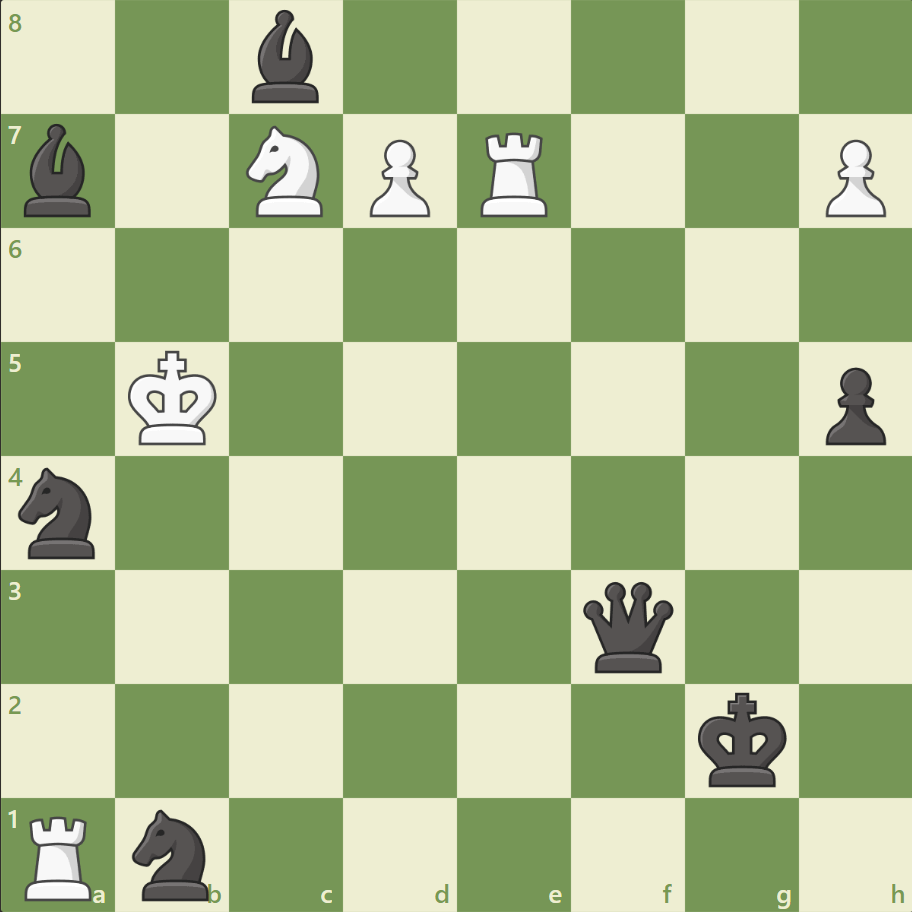K: (124, 344, 224, 452)
N: (238, 121, 335, 223)
P: (361, 132, 435, 223), (815, 132, 889, 223)
R: (19, 806, 102, 904), (473, 125, 556, 222)
b: (244, 6, 328, 109), (17, 120, 101, 222)
k: (692, 685, 792, 793)
n: (124, 802, 222, 904), (11, 461, 108, 564)
p: (815, 359, 889, 450)
q: (578, 576, 677, 676)
